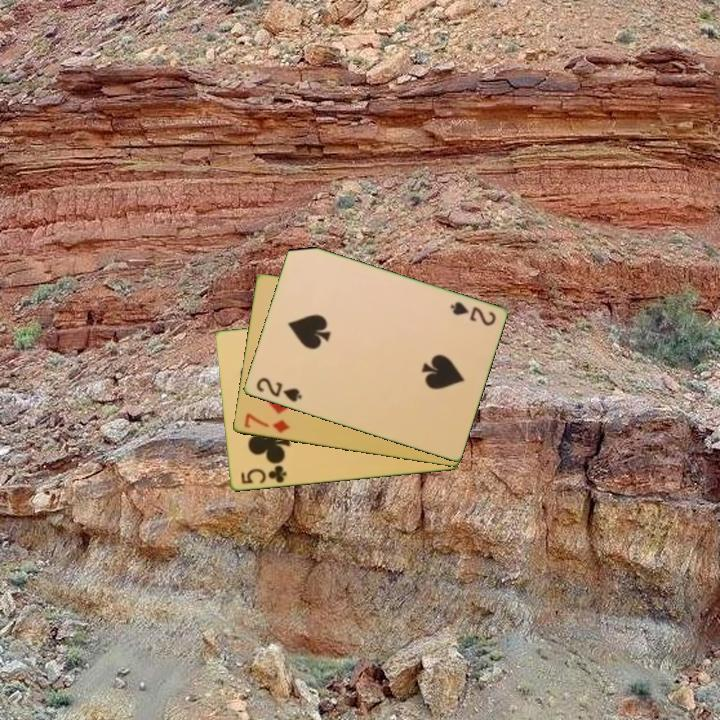2s: (446, 298, 499, 329), (252, 374, 304, 405)
5c: (237, 462, 289, 487)
7d: (240, 410, 292, 436)
